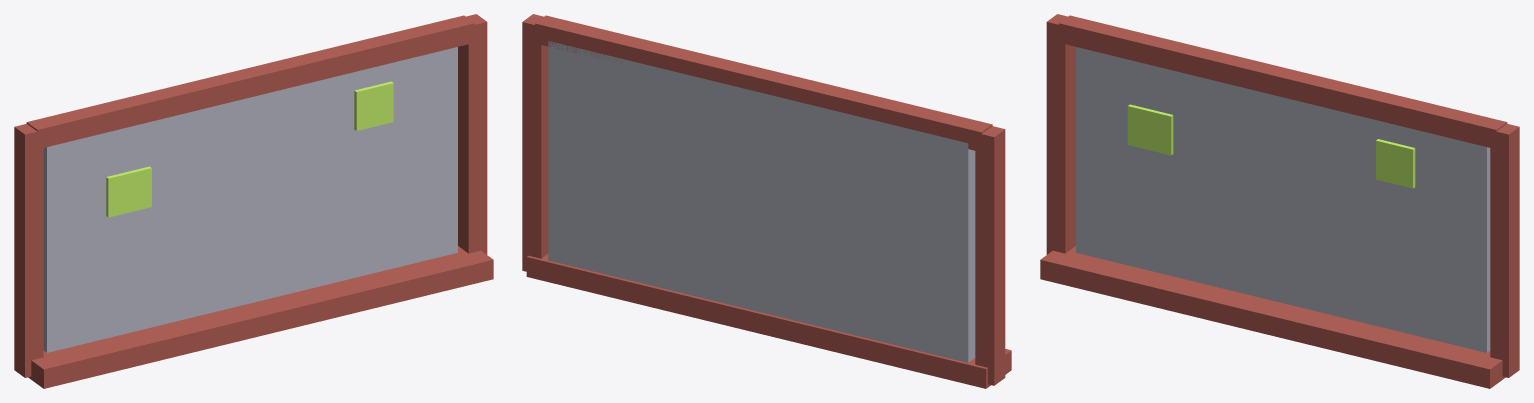
Rendered from whiteboard.obj.
The picture shows the model from 3 angles, left to right: view 1: azimuth 30°, elevation 25°; view 2: azimuth 150°, elevation 25°; view 3: azimuth 330°, elevation 25°; orthographic projection. The views are drawn at different scales.
Parts seen in each view (by area): view 1: soft-board-surface, wood-bottom-tray, wood-top-frame, left-frame, right-frame, sticky-note-one, sticky-note-two; view 2: soft-board-surface, wood-top-frame, wood-bottom-tray, left-frame, right-frame; view 3: soft-board-surface, wood-bottom-tray, wood-top-frame, right-frame, left-frame, sticky-note-one, sticky-note-two.
Boxes of the visible parts, <box> form: soft-board-surface: <box>43,47,457,352</box>; wood-bottom-tray: <box>28,246,493,388</box>; wood-top-frame: <box>26,15,474,149</box>; left-frame: <box>14,123,43,377</box>; right-frame: <box>458,14,487,254</box>; sticky-note-one: <box>106,166,151,217</box>; sticky-note-two: <box>354,81,393,130</box>; soft-board-surface: <box>548,41,975,362</box>; wood-top-frame: <box>535,15,992,151</box>; wood-bottom-tray: <box>526,254,1011,388</box>; left-frame: <box>975,126,1005,385</box>; right-frame: <box>522,14,548,271</box>; soft-board-surface: <box>1076,47,1490,352</box>; wood-bottom-tray: <box>1040,246,1505,388</box>; wood-top-frame: <box>1059,15,1507,148</box>; right-frame: <box>1490,123,1519,377</box>; left-frame: <box>1046,14,1075,254</box>; sticky-note-one: <box>1127,104,1173,155</box>; sticky-note-two: <box>1376,139,1415,188</box>.
Size of the model in its own units: 2.98 by 1.53 by 0.28.
